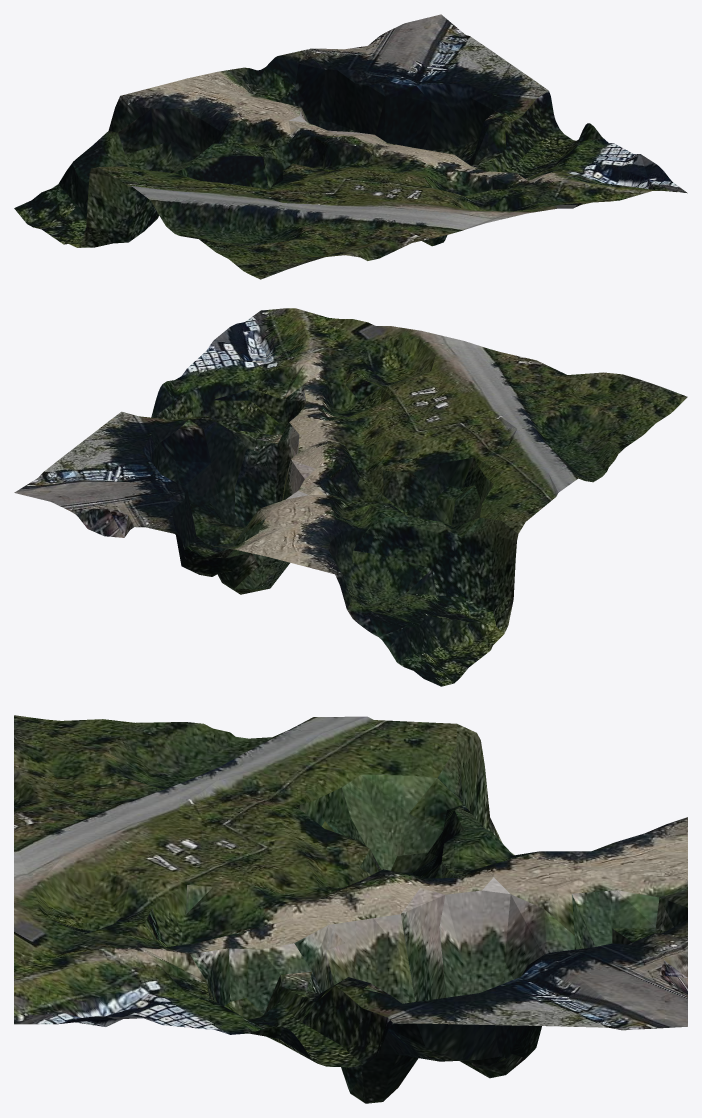
File: map_15_8180_13781.dae
3 views of the same model, one above another, from view 1: azimuth 30°, elevation 25°; view 2: azimuth 150°, elevation 25°; view 3: azimuth 270°, elevation 25° (orthographic). The views are drawn at different scales.
Parts seen in each view (by area): view 1: Ter0; view 2: Ter0; view 3: Ter0.
Part boxes in pixels (left/top/right/bottom): Ter0: left=14, top=14, right=687, bottom=279; Ter0: left=14, top=308, right=687, bottom=686; Ter0: left=14, top=715, right=687, bottom=1103.
Bounding box in the file's own units: 63.88 × 63.88 × 20.18.
3 materials, 3 textured.
